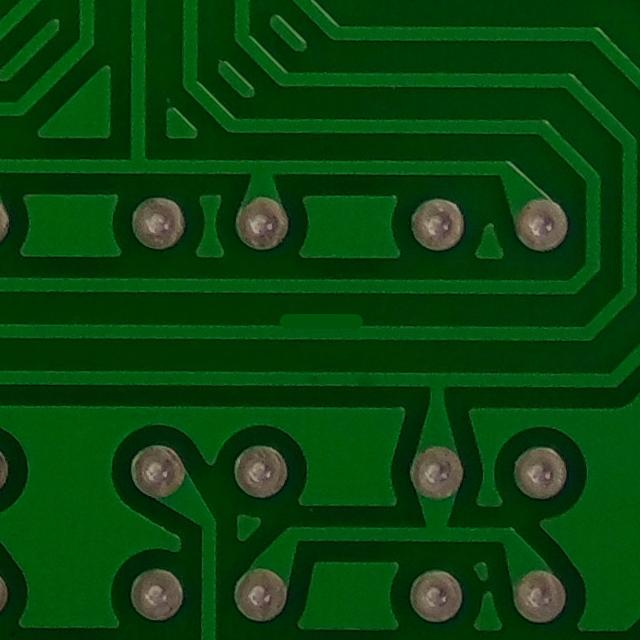spur: (266, 296, 375, 345)
